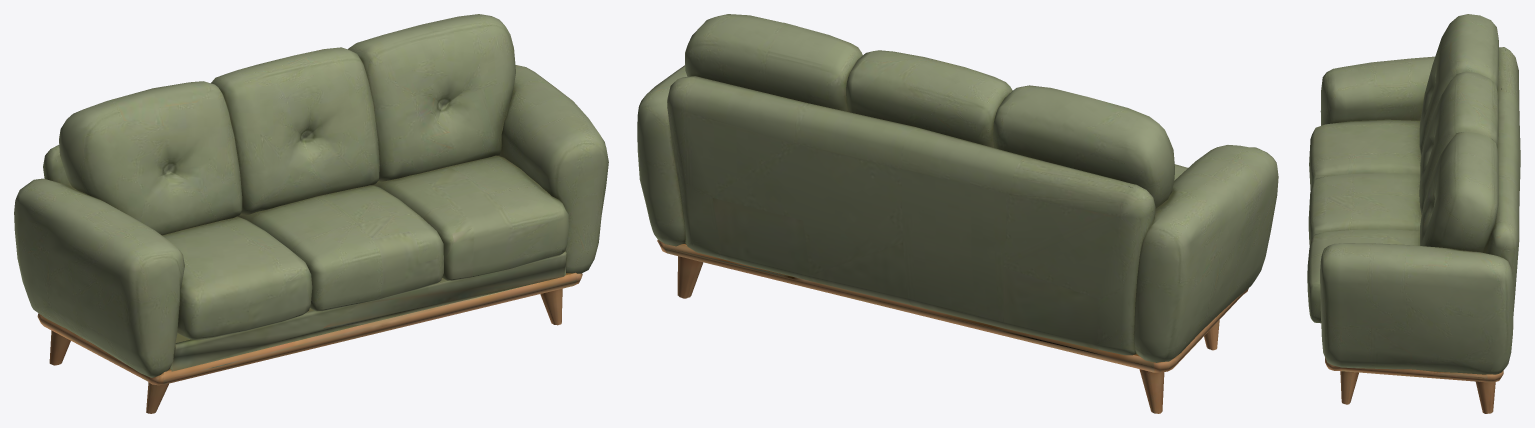
Rendered from sofa.comfort.glb.
The picture shows the model from 3 angles, left to right: view 1: azimuth 30°, elevation 25°; view 2: azimuth 150°, elevation 25°; view 3: azimuth 270°, elevation 25°; orthographic projection. The views are drawn at different scales.
Parts seen in each view (by area): view 1: geometry_0; view 2: geometry_0; view 3: geometry_0.
Part boxes in pixels (<box>): geometry_0: <box>14,14,608,413</box>; geometry_0: <box>637,14,1278,413</box>; geometry_0: <box>1307,14,1520,413</box>.
Bounding box in the file's own units: 1 × 0.4904 × 0.4195.
Materials: 1 (1 with a texture image).
